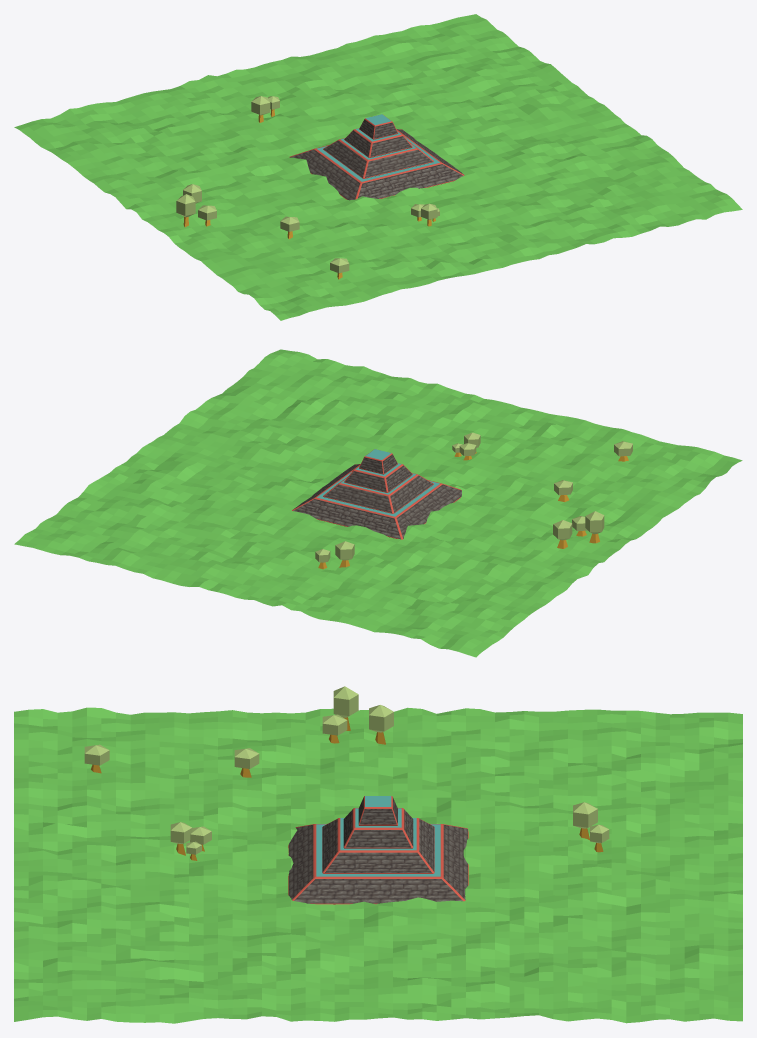
File: piramide.gltf
3 renders of one model, top to bottom at view 1: azimuth 30°, elevation 25°; view 2: azimuth 150°, elevation 25°; view 3: azimuth 270°, elevation 25°, orthographic. The views are drawn at different scales.
Visible parts, largest first — view 1: Cube; view 2: Cube; view 3: Cube.
Boxes of the visible parts, left/top/right/bottom form: Cube: left=14, top=14, right=742, bottom=320; Cube: left=14, top=349, right=742, bottom=657; Cube: left=14, top=686, right=742, bottom=1023.
Size of the model in its own units: 45.75 by 4.82 by 45.75.
Materials: 1 (1 with a texture image).
